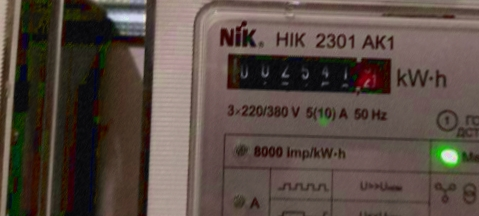0: (238, 59, 251, 80), (259, 57, 271, 79)
1: (340, 59, 352, 82)
2: (279, 57, 294, 80)
4: (320, 58, 332, 79)
5: (299, 58, 312, 82)
6: (361, 76, 373, 88)
screen: (214, 42, 405, 103)
